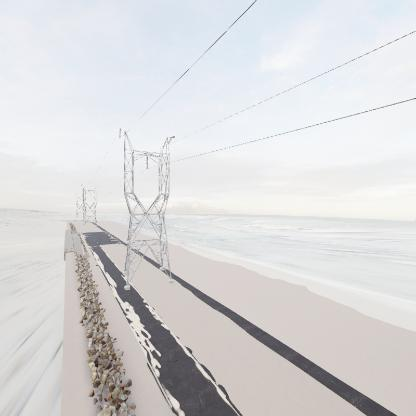tower: (116, 130, 181, 294)
